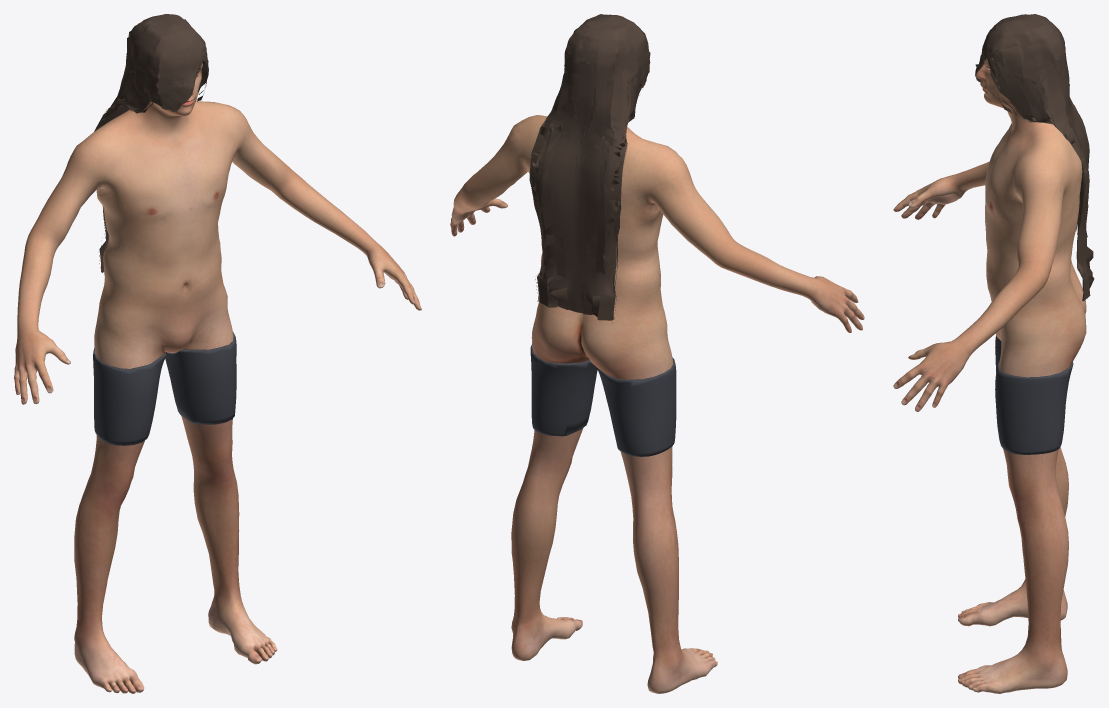
The model's file is distorted-char.glb.
3 views of the same model, side by side, from view 1: azimuth 30°, elevation 25°; view 2: azimuth 150°, elevation 25°; view 3: azimuth 270°, elevation 25° (orthographic).
Visible parts, largest first — view 1: Body, Briefs, Hair_bob01, Hair_long01; view 2: Body, Hair_long01, Briefs, Hair_bob01, Hair_ponytail01; view 3: Body, Hair_long01, Briefs, Hair_bob01.
Boxes of the visible parts, x1,y1,x2,y2 form: Body: (14,63,421,693); Briefs: (93,332,236,445); Hair_bob01: (126,14,207,111); Hair_long01: (94,15,208,272); Body: (450,115,864,693); Hair_long01: (529,15,641,322); Briefs: (530,344,676,456); Hair_bob01: (564,14,650,116); Hair_ponytail01: (572,61,596,178); Body: (893,58,1086,693); Hair_long01: (984,16,1094,301); Briefs: (995,335,1073,454); Hair_bob01: (975,14,1069,98).
Size of the model in its own units: 1.22 by 1.86 by 0.536.
Materials: 11 (1 with a texture image).
